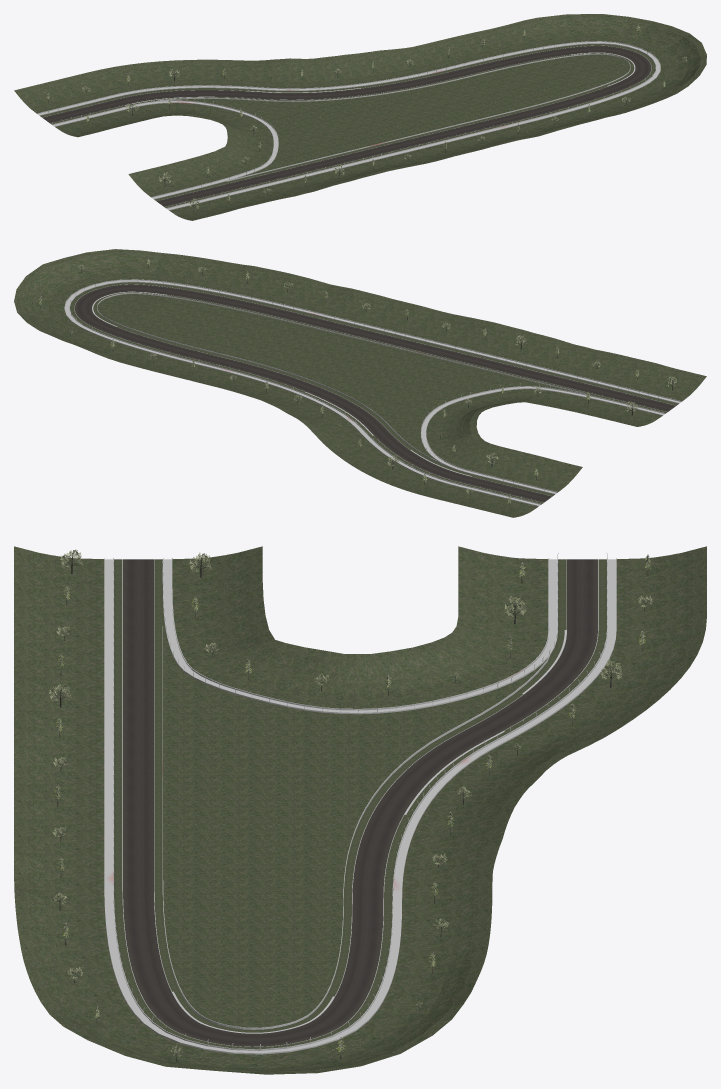
3 views of the same model, one above another, from view 1: azimuth 30°, elevation 25°; view 2: azimuth 150°, elevation 25°; view 3: azimuth 270°, elevation 25° (orthographic). The views are drawn at different scales.
Visible parts, largest first — view 1: Grass, Road, Track, Trees; view 2: Grass, Road, Track, Trees; view 3: Grass, Road, Track, Trees.
Boxes of the visible parts, box(x1,y1,x2,y2) form: Grass: box(14, 14, 706, 220); Road: box(42, 45, 651, 206); Track: box(37, 41, 660, 210); Trees: box(47, 24, 686, 211); Grass: box(14, 249, 706, 517); Road: box(74, 284, 676, 502); Track: box(64, 279, 681, 506); Trees: box(39, 258, 676, 506); Grass: box(14, 546, 706, 1074); Road: box(123, 559, 597, 1046); Track: box(104, 553, 616, 1054); Trees: box(49, 549, 652, 1061).
Size of the model in its own units: 71051 by 1845 by 39000.
